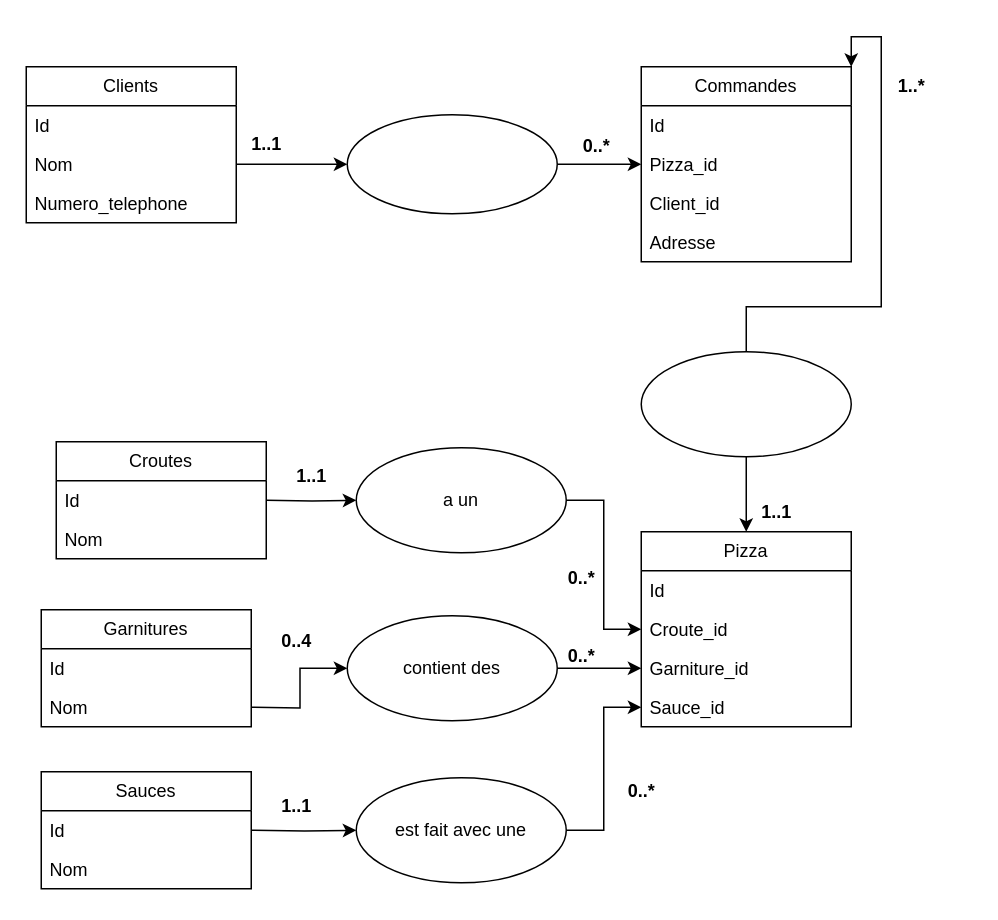
This 998x920 diagram has some shape labels left out. Each missing label, with the centre of its shape:
"comporte une" goes at (x=745, y=403).
"passe une" goes at (x=451, y=163).
